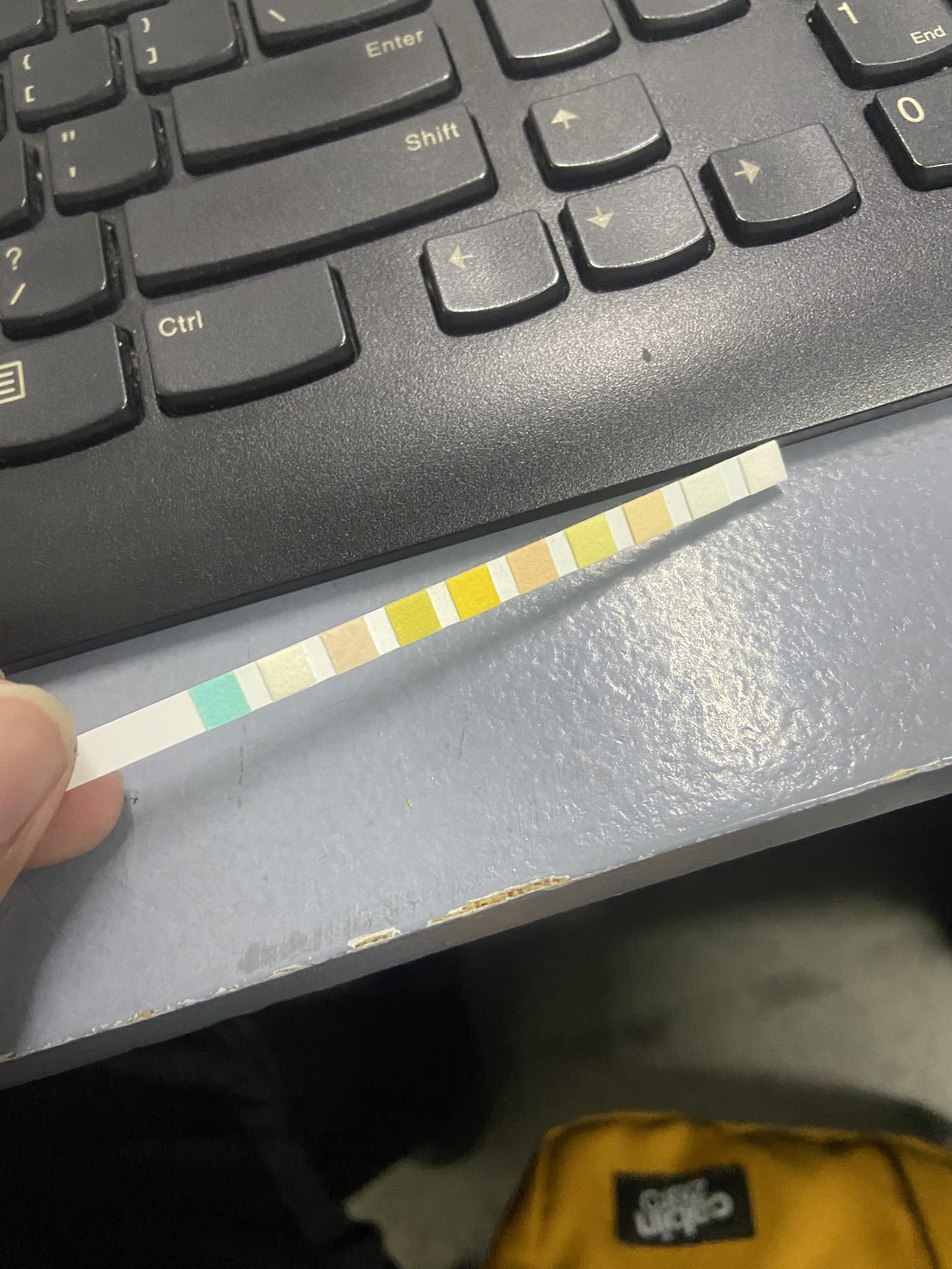Bilirubin: (271, 654, 306, 689)
Blood: (456, 576, 491, 608)
Glucose: (205, 682, 239, 717)
Ketone: (331, 628, 368, 662)
Leukocytes: (750, 450, 780, 482)
Nitrite: (690, 476, 721, 508)
Protein: (575, 525, 609, 556)
SpGravity: (393, 603, 432, 630)
Urobilinogen: (631, 501, 665, 532)
pH: (518, 549, 549, 583)
strip: (81, 440, 789, 777)
